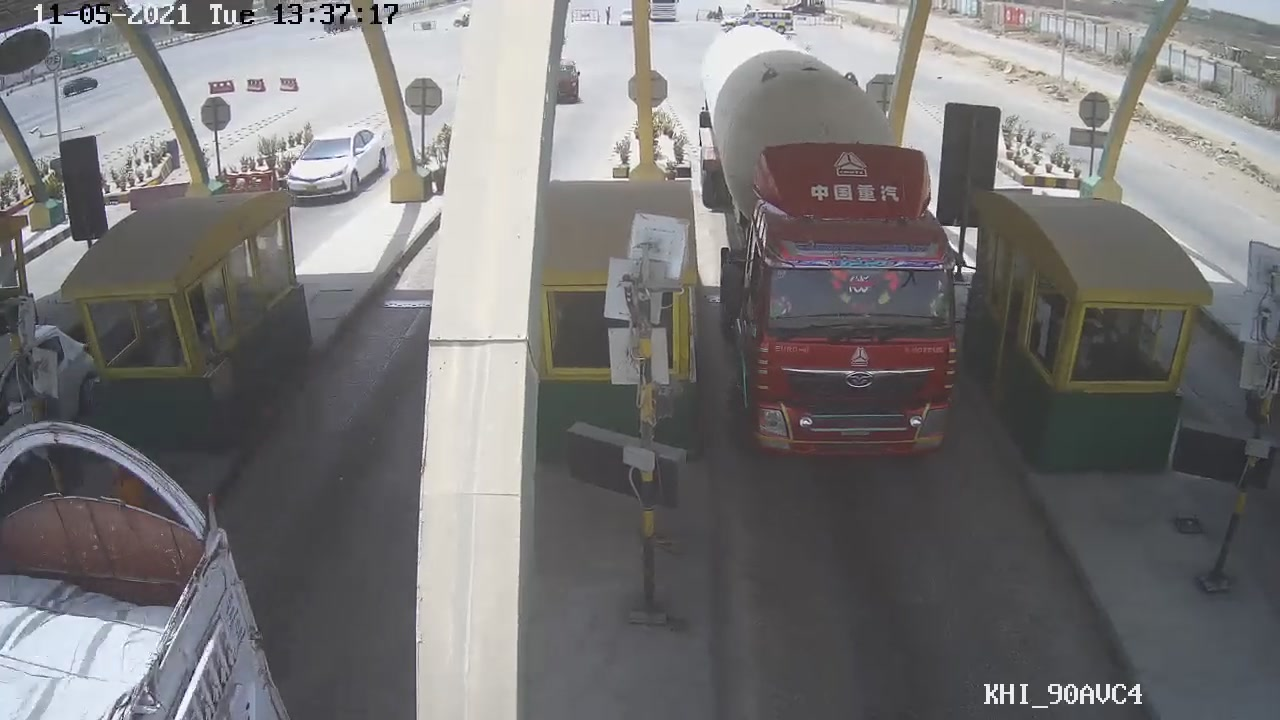F6: (703, 72, 967, 461)
